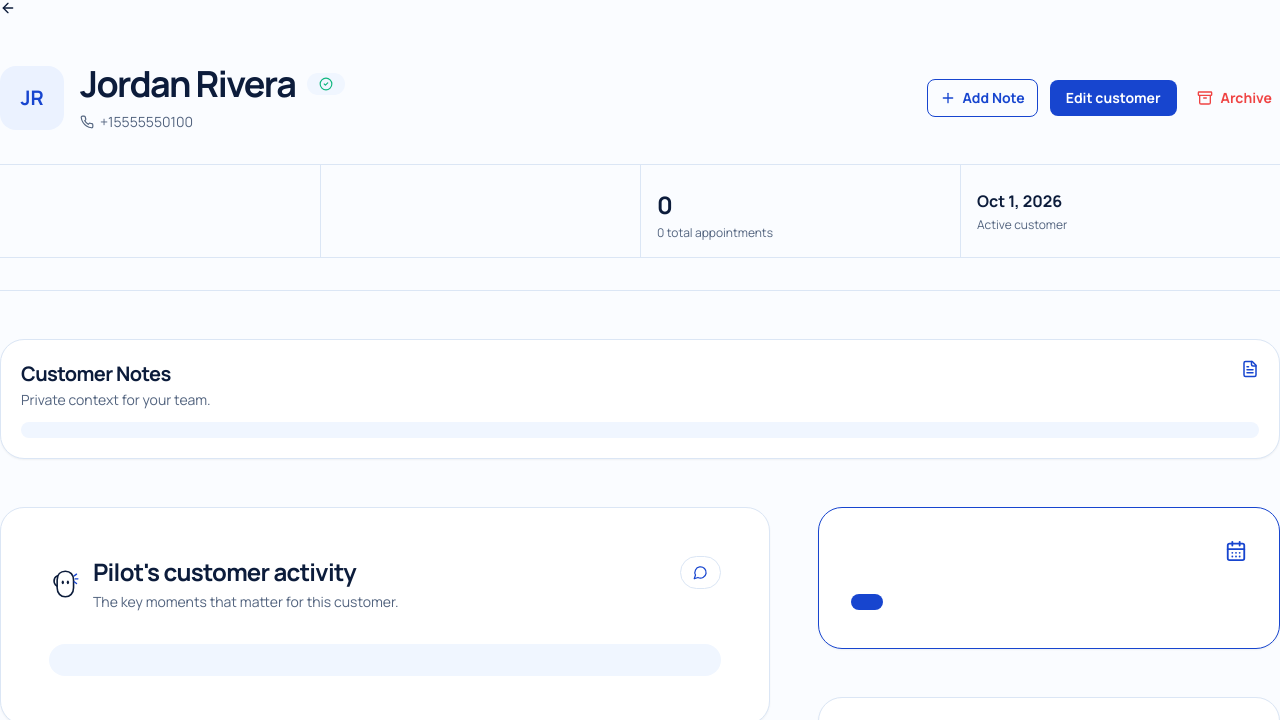
Test case: Customer profile notes › does not save the same note twice when Save is pressed again while saving
Click the button "Add Note" at (983, 98), box [927,79,1038,117]
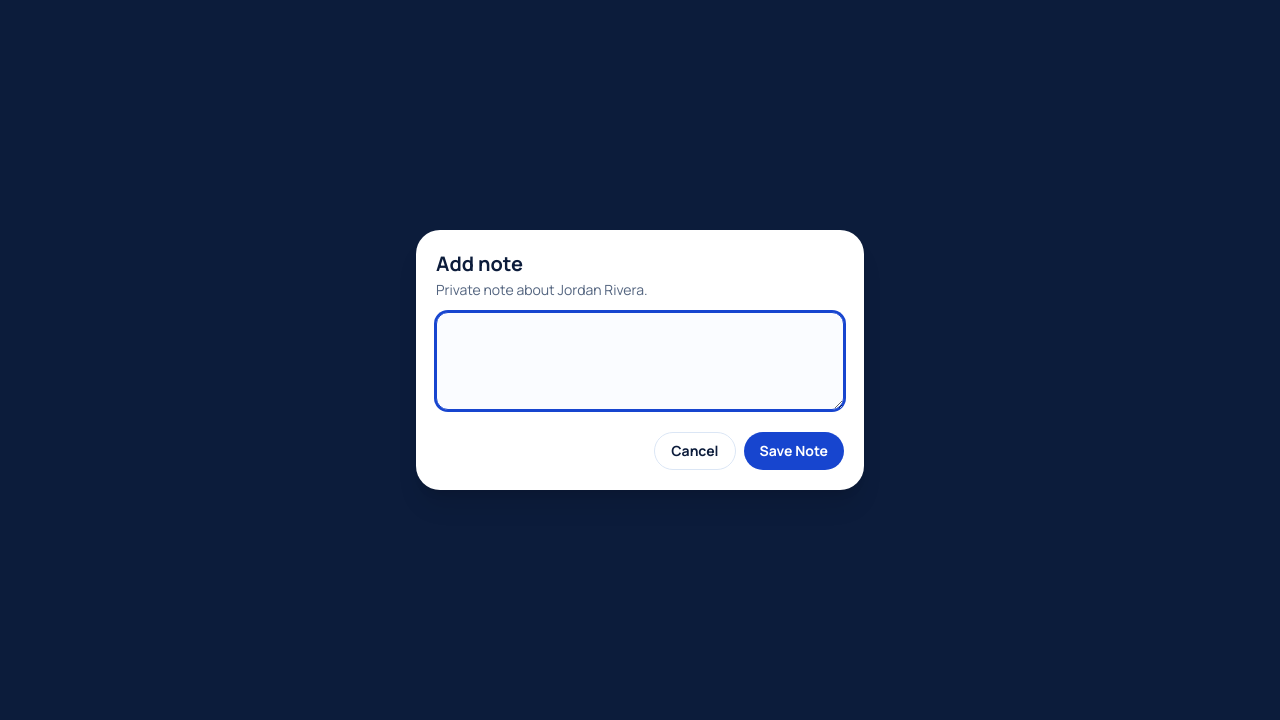
Type "Call before arriving" into the text box at (640, 361), box [436,312,844,410]
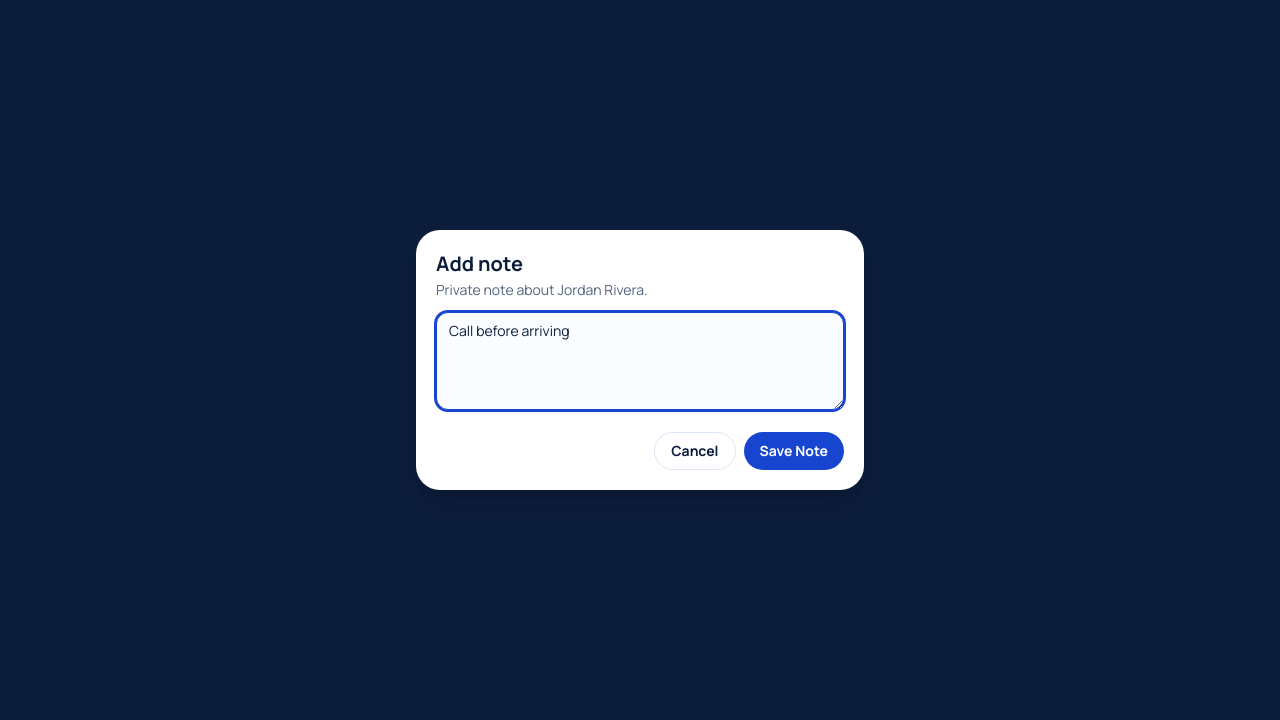
Submit the dialog, box [416,230,864,490]
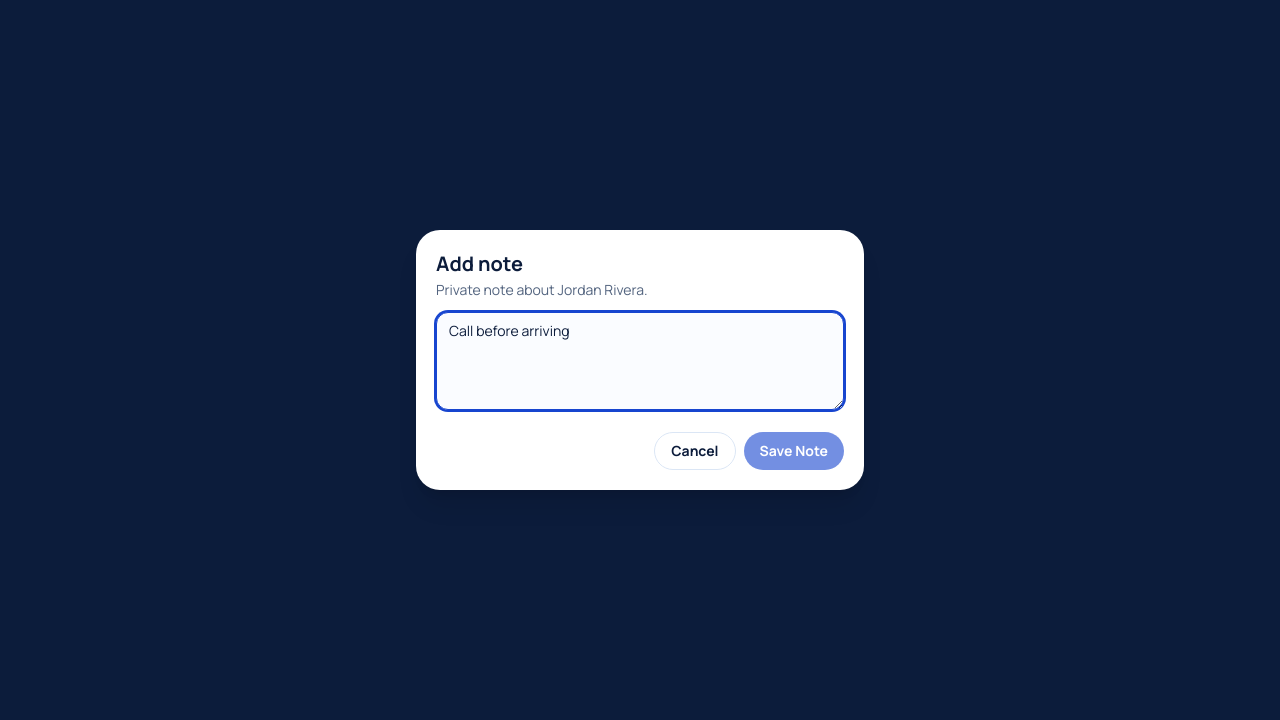
Submit the dialog, box [416,230,864,490]
Submit the dialog, box [416,230,864,490]
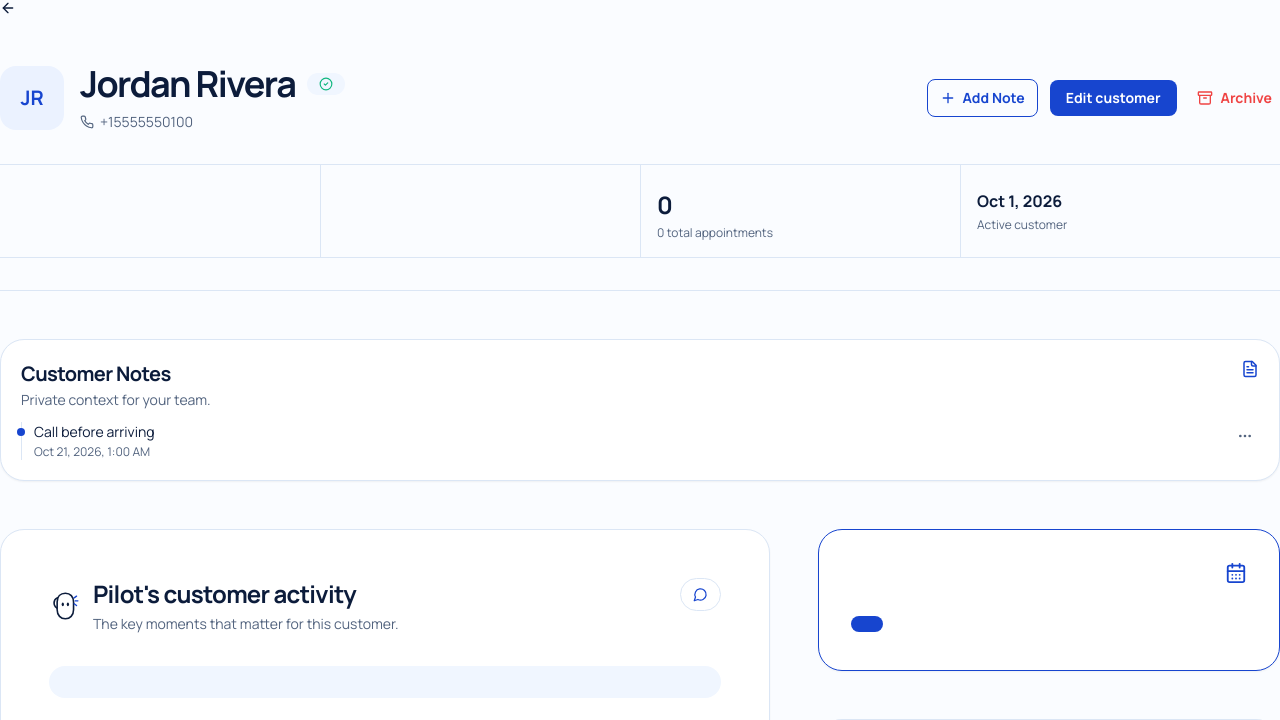
expect the text "Call before arriving" is shown: met, box [34,422,155,442]
